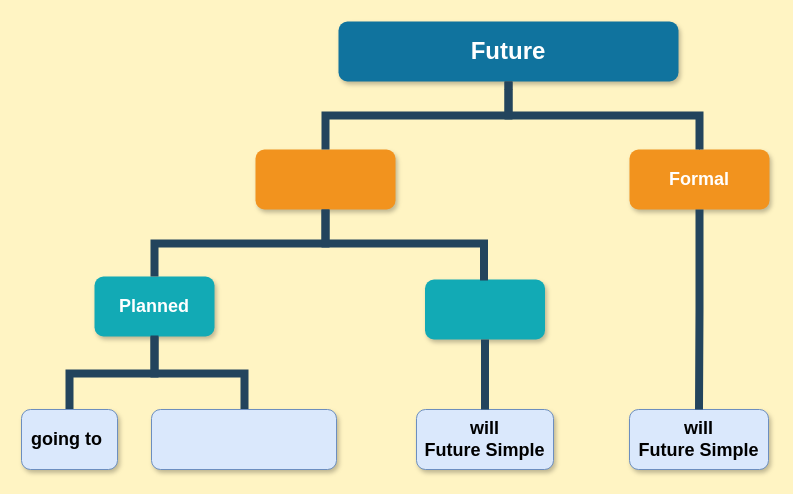
The diagram is 793 pixels wide and 494 high, and some of its shapes have lost their labels. Each missing label, with the centre of its shape:
"Informal" belongs at (326,180).
"present continuous" belongs at (244,440).
"Unplanned" belongs at (485,310).
